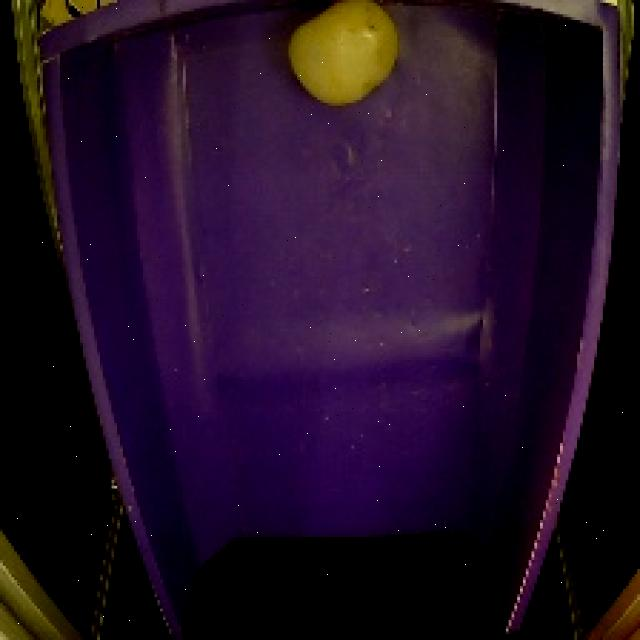cobbles: (278, 0, 408, 120)
